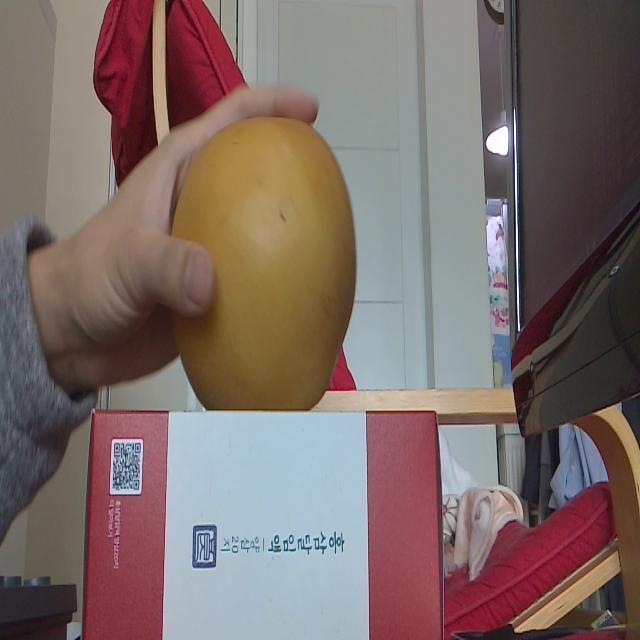pear: (172, 115, 356, 409)
